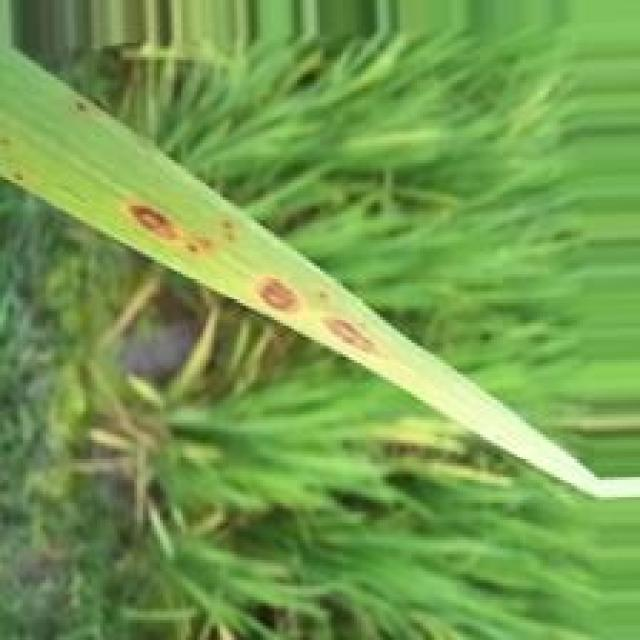Brown_Spot: (315, 315, 391, 361), (120, 204, 187, 248), (251, 273, 306, 317), (181, 236, 211, 258)
